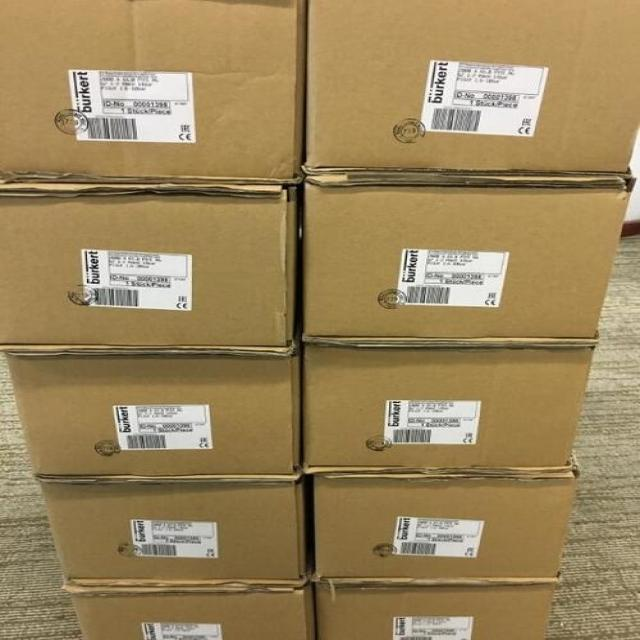box: (306, 0, 640, 175), (303, 177, 635, 337), (0, 183, 297, 346), (0, 347, 303, 474), (305, 344, 595, 467), (310, 467, 575, 578), (36, 476, 308, 581), (312, 578, 557, 639), (64, 583, 315, 640)
